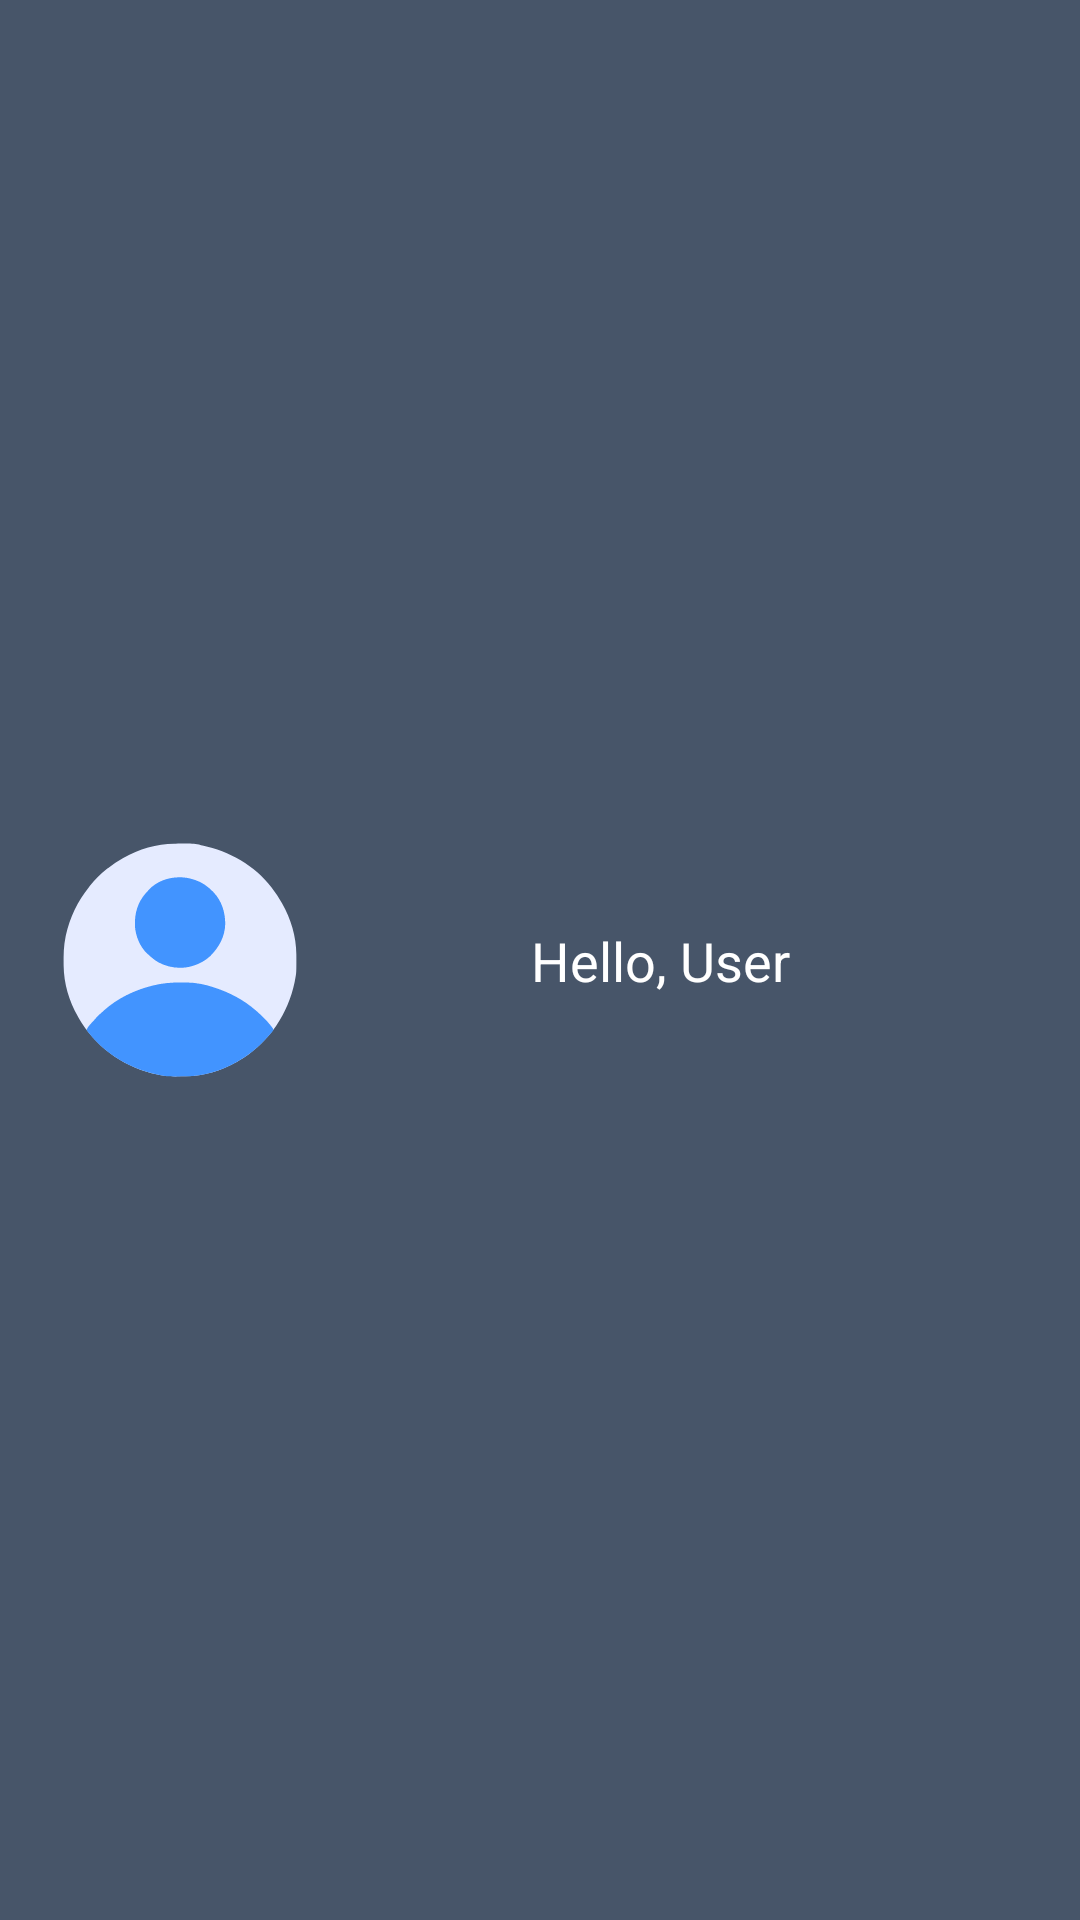

Icons on this 1080x1920 Android screen, each with its box as box=[x1, y1, x2, y2]:
profile: box=[63, 843, 297, 1077]
